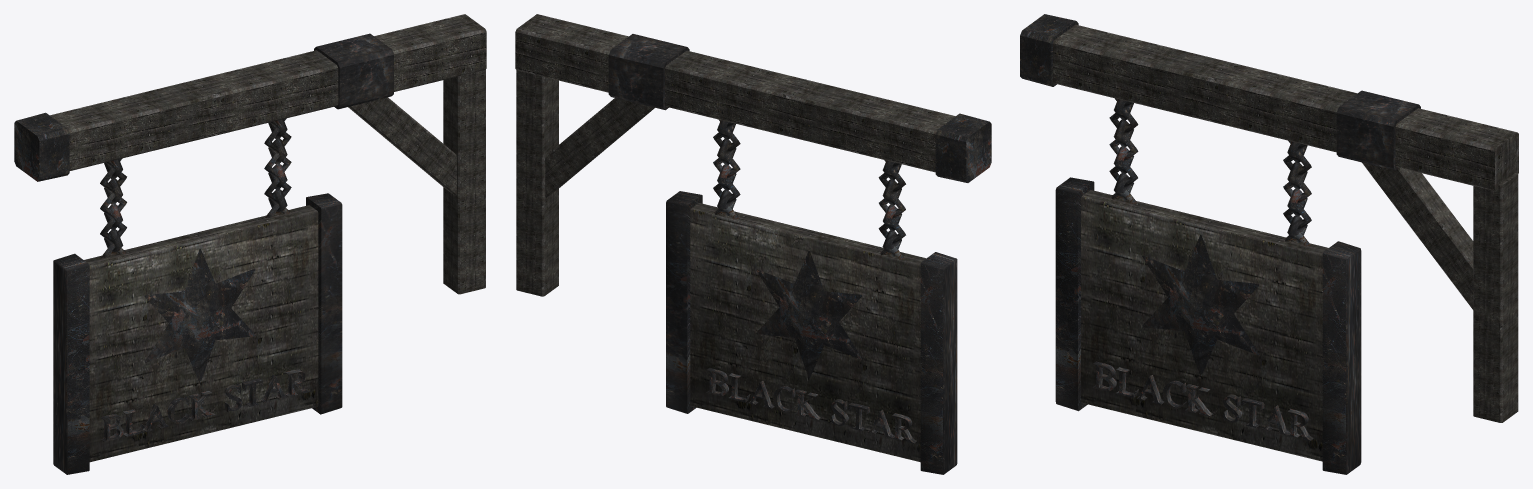
File: Shop_Sign_1.fbx
The picture shows the model from 3 angles, left to right: view 1: azimuth 30°, elevation 25°; view 2: azimuth 150°, elevation 25°; view 3: azimuth 330°, elevation 25°; orthographic projection. The views are drawn at different scales.
Parts seen in each view (by area): view 1: Shop_Sign_1; view 2: Shop_Sign_1; view 3: Shop_Sign_1.
Boxes of the visible parts, box(x1,y1,x2,y2) form: Shop_Sign_1: box(14, 14, 486, 474); Shop_Sign_1: box(515, 14, 991, 474); Shop_Sign_1: box(1020, 14, 1518, 474).
Size of the model in its own units: 122 by 90.39 by 12.14.
